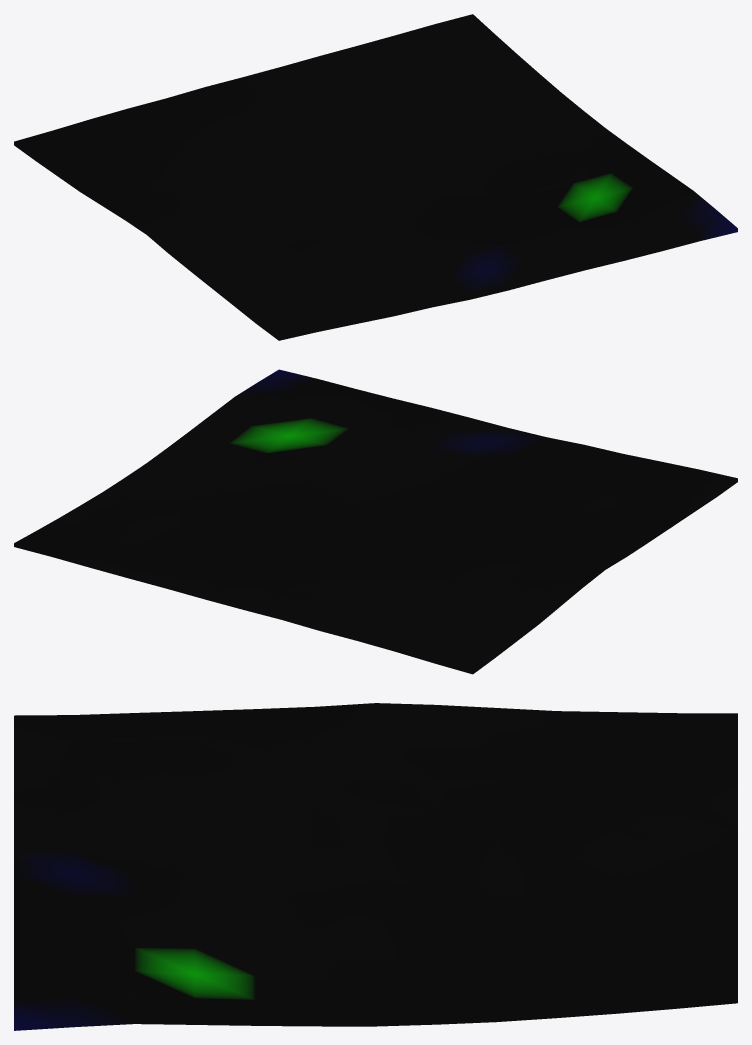
File: coast_19_4.glb
3 views of the same model, one above another, from view 1: azimuth 30°, elevation 25°; view 2: azimuth 150°, elevation 25°; view 3: azimuth 270°, elevation 25° (orthographic). The views are drawn at different scales.
Parts seen in each view (by area): view 1: terrain; view 2: terrain; view 3: terrain.
Boxes of the visible parts, x1,y1,x2,y2 form: terrain: [14, 14, 737, 340]; terrain: [14, 369, 737, 674]; terrain: [14, 703, 737, 1030].
Bounding box in the file's own units: 192 × 10.56 × 192.
